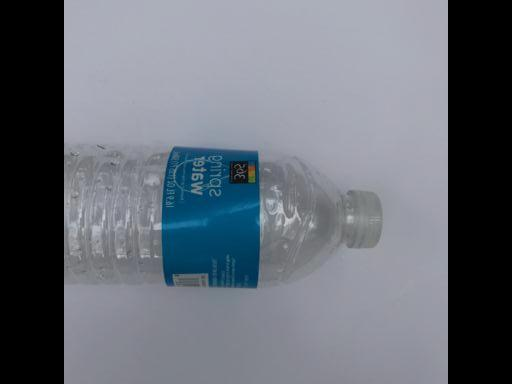plastic: (66, 141, 386, 288)
